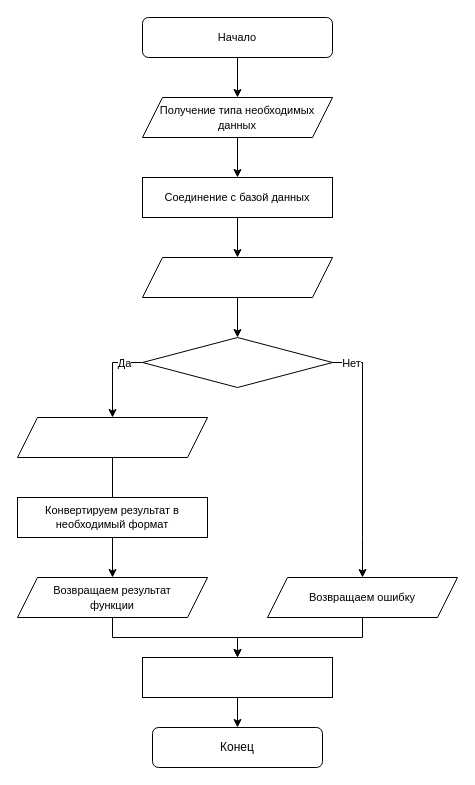
Image size: 475x785. Some labels were removed from this diagram. The box of each missing label's shape, as (x1, y1, x2, y2) in pixels:
Запрос корректен?: (142, 336, 332, 388)
Отправка SQL запроса на сервер: (142, 256, 332, 298)
Получаем результат запроса: (16, 416, 208, 458)
Прерываем соединение с базой данных: (142, 656, 332, 698)
